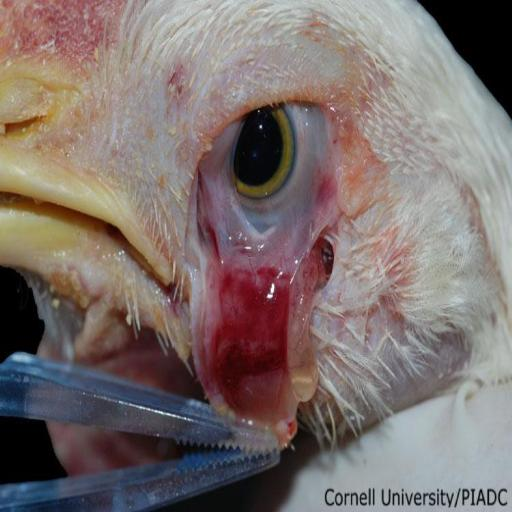disease: (155, 16, 433, 430)
